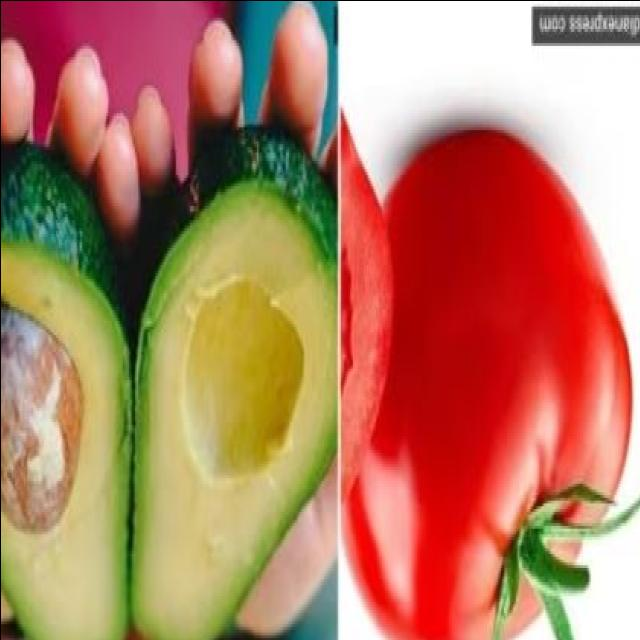Healthy: (350, 126, 620, 640)
